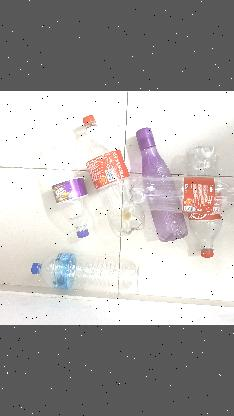Plastic Bottle: (82, 94, 144, 256), (136, 118, 186, 252), (38, 134, 100, 240), (1, 254, 161, 292), (186, 143, 228, 263), (125, 175, 234, 215)
